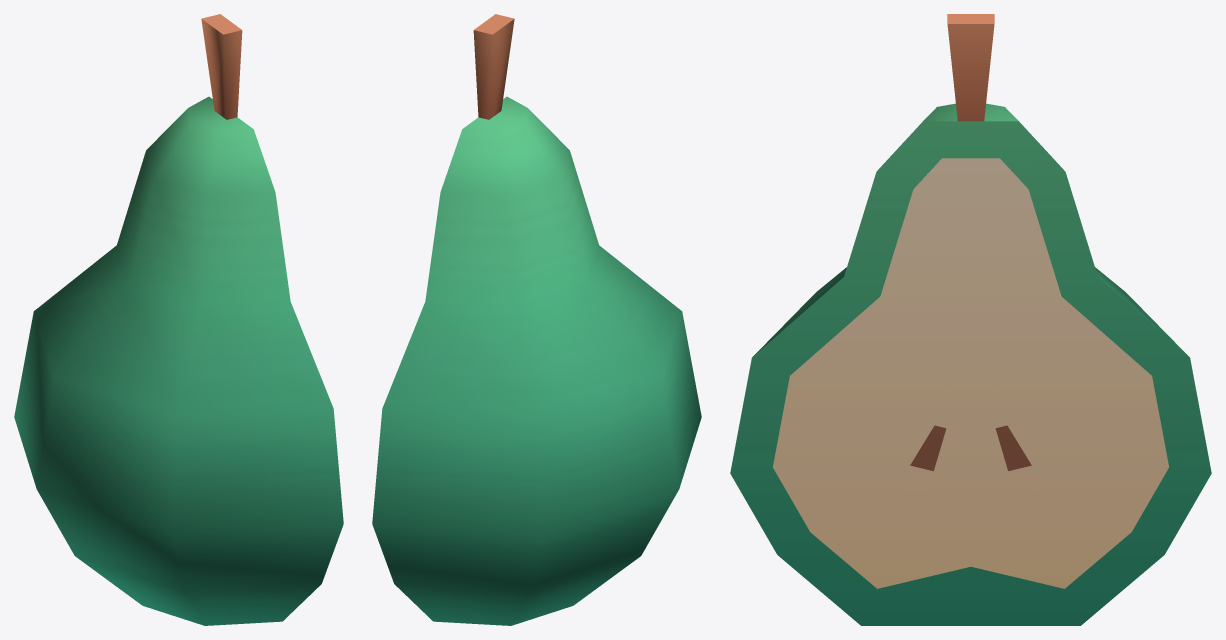
File: kenney-food-pear-half.glb
3 renders of one model, left to right at view 1: azimuth 30°, elevation 25°; view 2: azimuth 150°, elevation 25°; view 3: azimuth 270°, elevation 25°, orthographic. The views are drawn at different scales.
Parts seen in each view (by area): view 1: pear-half; view 2: pear-half; view 3: pear-half.
Part boxes in pixels (x1,y1,x2,y2): pear-half: (14,14,343,625); pear-half: (372,14,701,625); pear-half: (730,14,1211,625).
Size of the model in its own units: 0.0981 by 0.2708 by 0.1963.
1 material, 1 textured.
